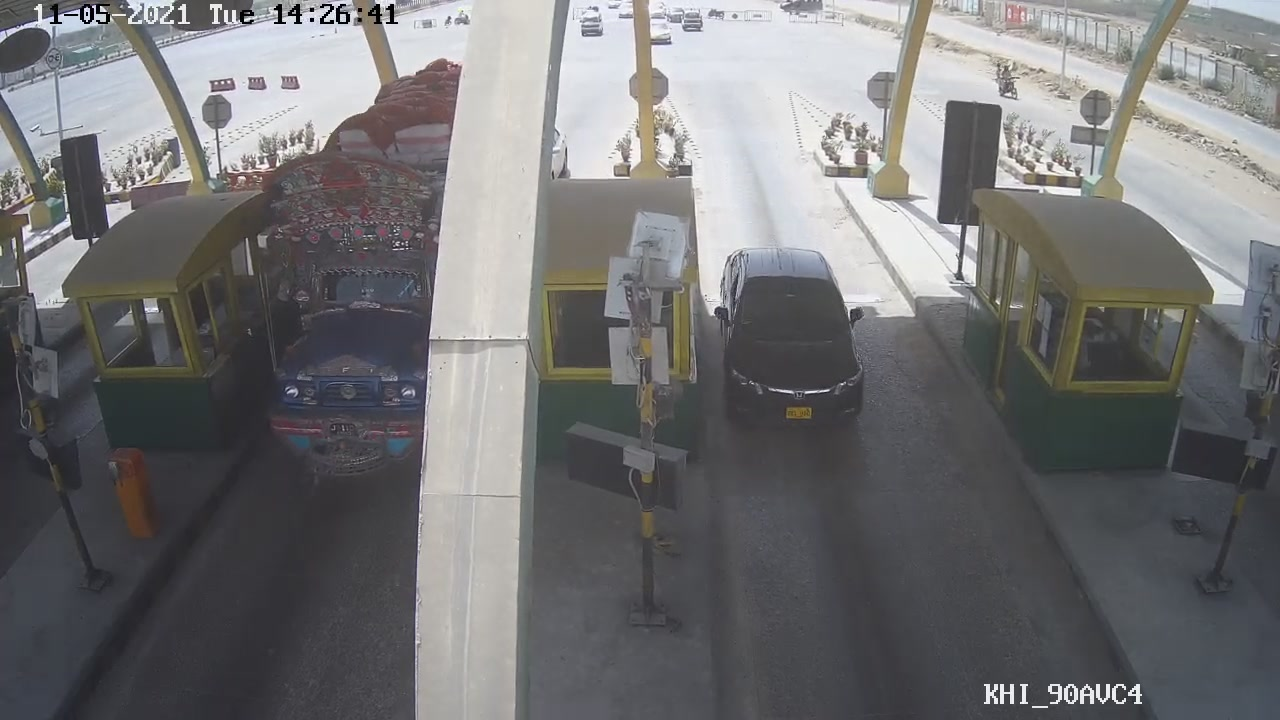F1: (711, 246, 870, 432)
